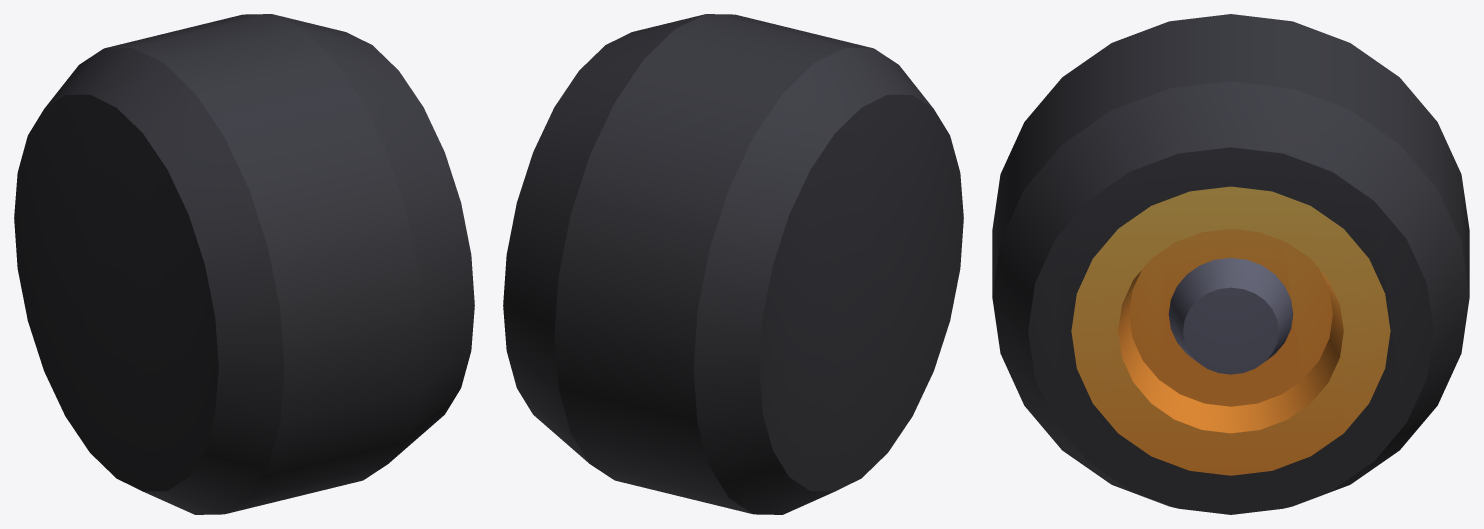
The model's file is wheel-tractor-back.glb.
The picture shows the model from 3 angles, left to right: view 1: azimuth 30°, elevation 25°; view 2: azimuth 150°, elevation 25°; view 3: azimuth 270°, elevation 25°; orthographic projection.
Parts seen in each view (by area): view 1: wheel-tractor-back; view 2: wheel-tractor-back; view 3: wheel-tractor-back.
Part boxes in pixels (x1=…): wheel-tractor-back: x1=14, y1=14, x2=474, y2=514; wheel-tractor-back: x1=503, y1=14, x2=963, y2=514; wheel-tractor-back: x1=992, y1=14, x2=1469, y2=514.
Bounding box in the file's own units: 0.5376 × 0.8752 × 0.8752.
